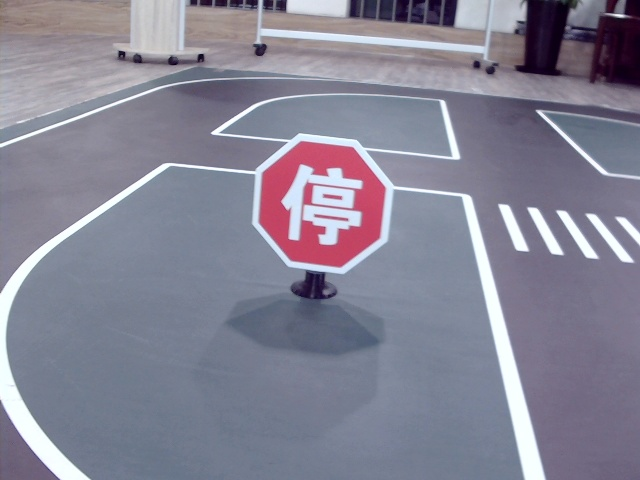stop: (276, 162, 365, 242)
